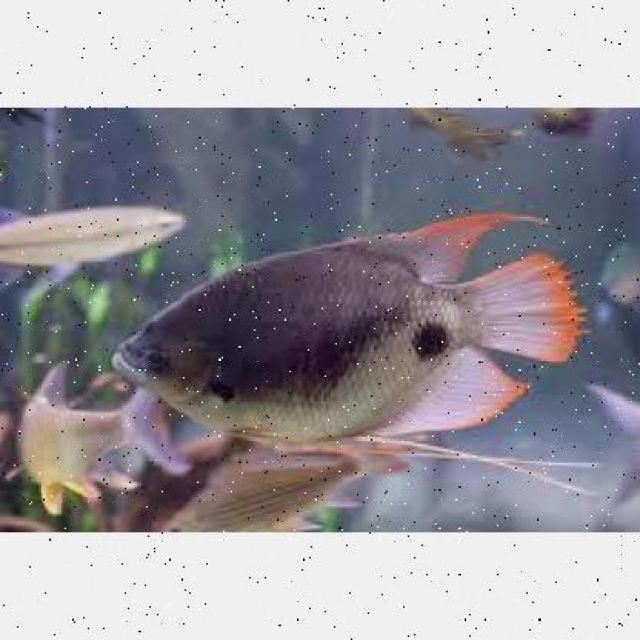gurame: (114, 214, 591, 440)
